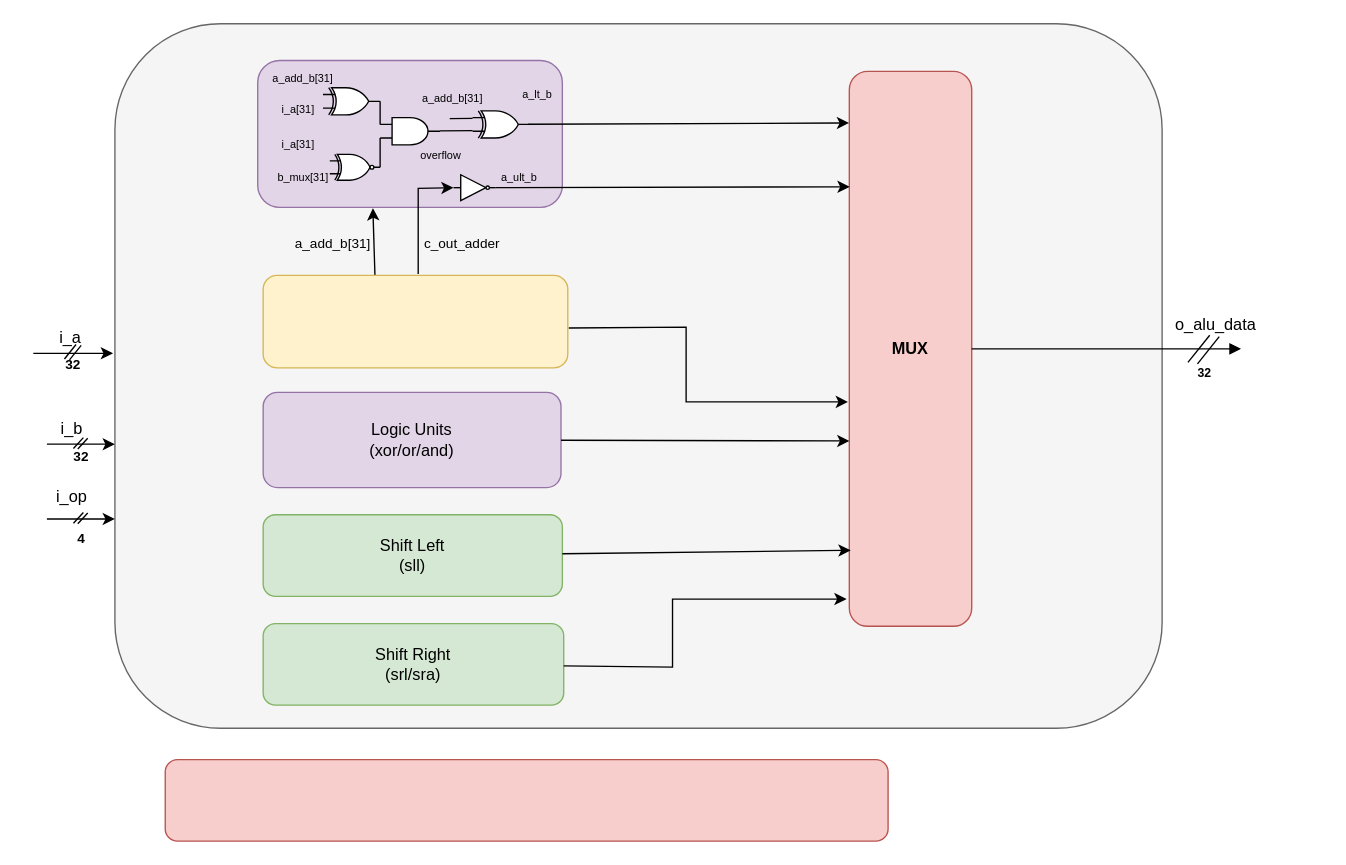
Image size: 1346x865. Some labels were removed from this diagram. The centre of each missing label's shape, as x and y in pixels:
b_mux là i_b nếu có tính hiệu trừ và là ~(i_b): point (526, 799)
CLA Adder (add/sub): point (415, 321)
